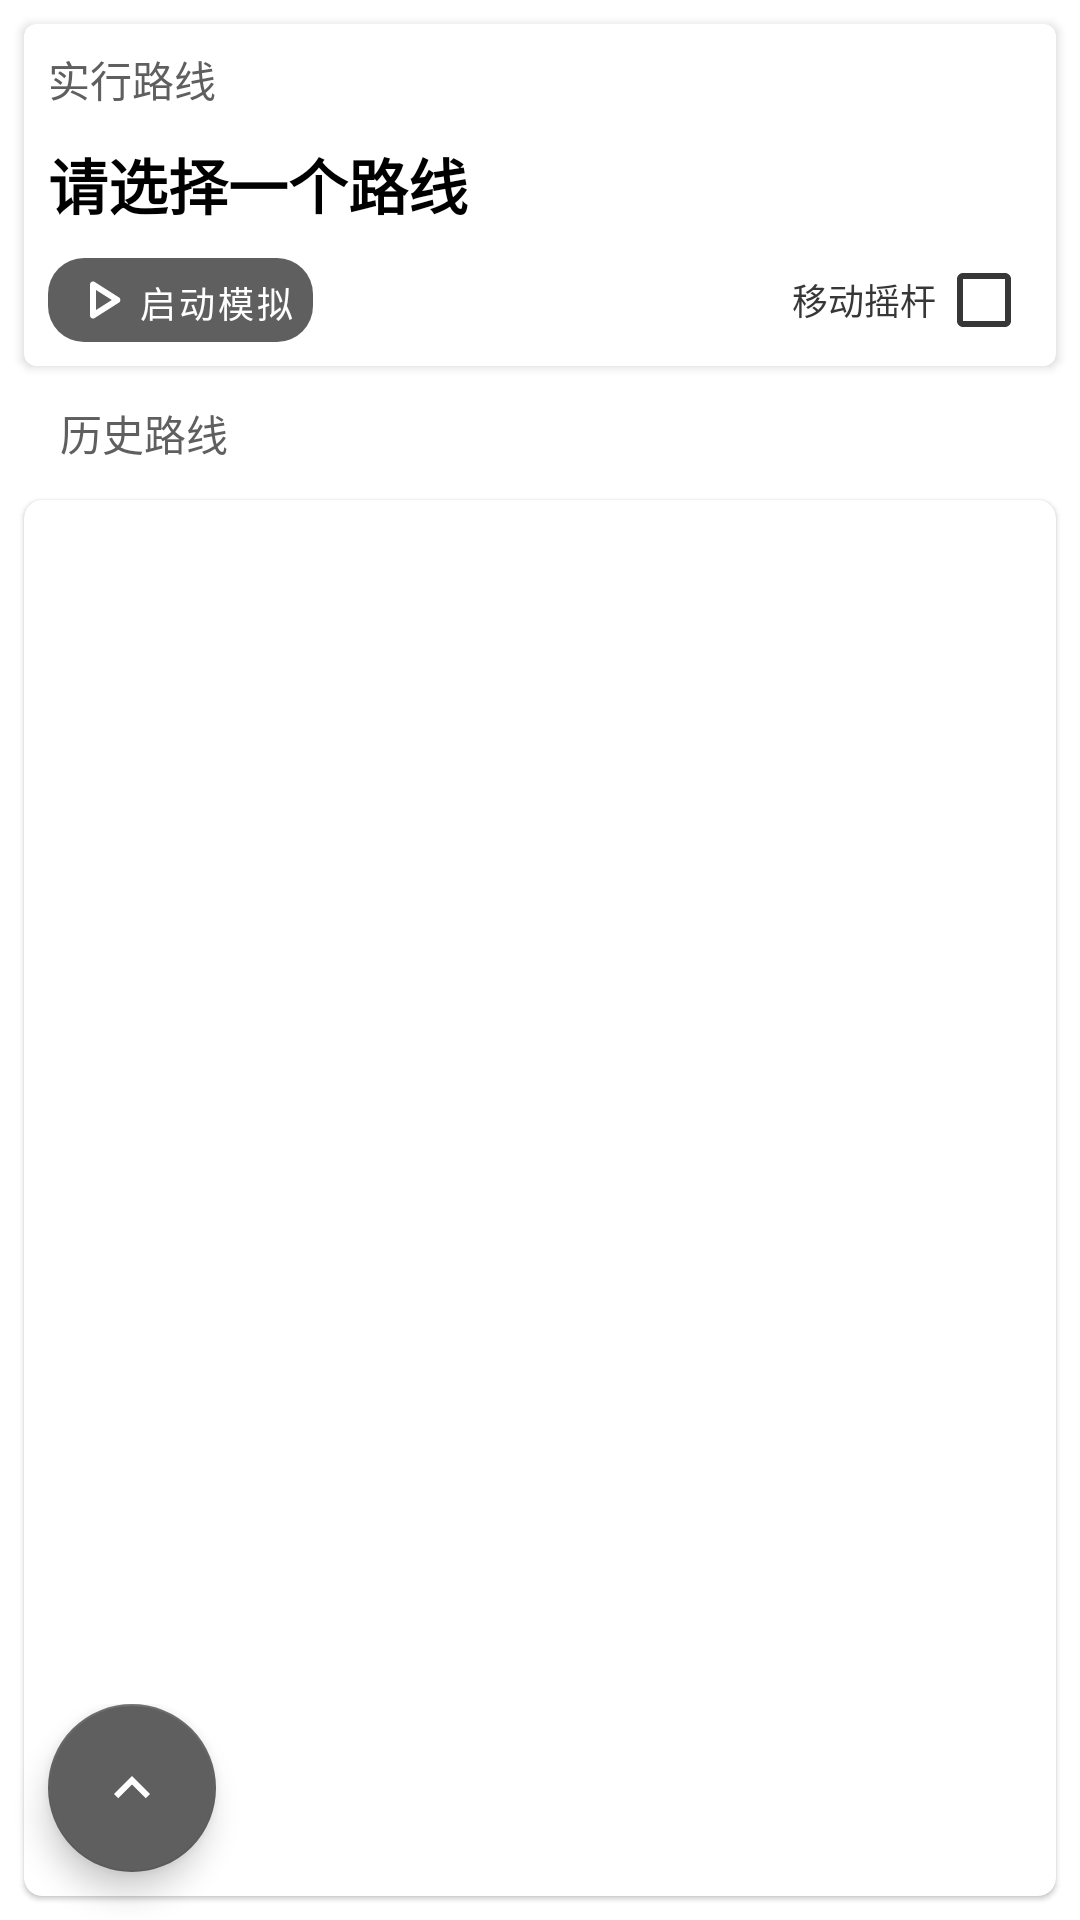

Screen size 1080x1920. Icon name, then its center in pixels as (x=x, y=y):
keyboard arrow up: (x=132, y=1788)
